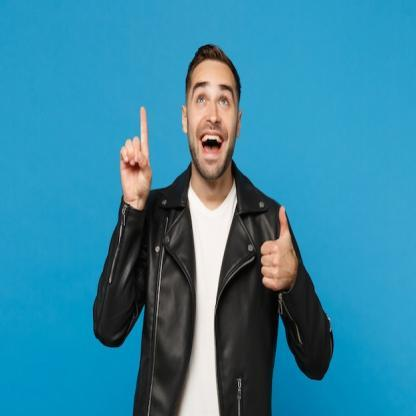thumb_up: (255, 202, 298, 294)
